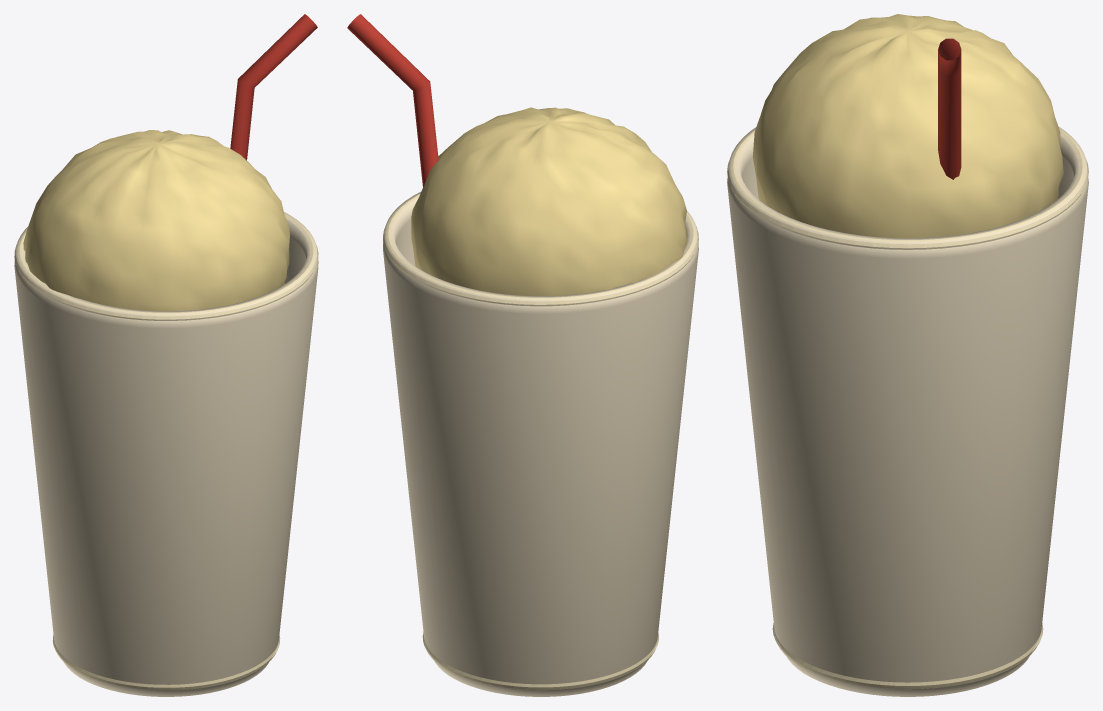
The model's file is food_terremoto_runtime.glb.
3 renders of one model, left to right at view 1: azimuth 30°, elevation 25°; view 2: azimuth 150°, elevation 25°; view 3: azimuth 270°, elevation 25°, orthographic. The views are drawn at different scales.
Visible parts, largest first — view 1: Hollow tapered glass, Pineapple ice cream scoop, Red bendy straw, Torus, Torus.001; view 2: Hollow tapered glass, Pineapple ice cream scoop, Red bendy straw, Torus, Torus.001; view 3: Hollow tapered glass, Pineapple ice cream scoop, Torus, Red bendy straw, Torus.001.
Boxes of the visible parts, x1=… form: Hollow tapered glass: x1=14, y1=212, x2=318, y2=696; Pineapple ice cream scoop: x1=23, y1=130, x2=289, y2=311; Red bendy straw: x1=230, y1=14, x2=317, y2=160; Torus: x1=14, y1=213, x2=318, y2=320; Torus.001: x1=53, y1=635, x2=280, y2=690; Hollow tapered glass: x1=383, y1=192, x2=698, y2=696; Pineapple ice cream scoop: x1=411, y1=107, x2=687, y2=296; Red bendy straw: x1=347, y1=14, x2=438, y2=187; Torus: x1=383, y1=193, x2=698, y2=306; Torus.001: x1=422, y1=632, x2=658, y2=690; Hollow tapered glass: x1=727, y1=126, x2=1088, y2=696; Pineapple ice cream scoop: x1=753, y1=14, x2=1063, y2=238; Torus: x1=727, y1=128, x2=1088, y2=249; Red bendy straw: x1=938, y1=38, x2=961, y2=179; Torus.001: x1=772, y1=623, x2=1043, y2=689.
Size of the model in its own units: 0.7363 by 1.38 by 0.65.
